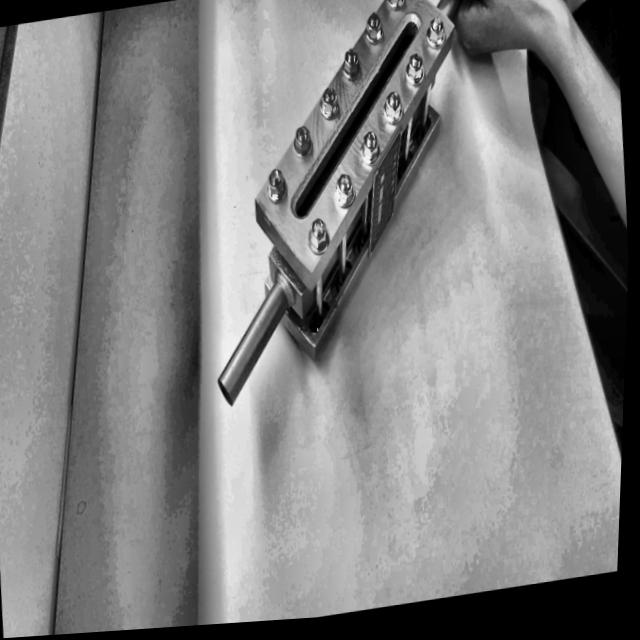ShuiWeiQi_12: (180, 0, 486, 427)
